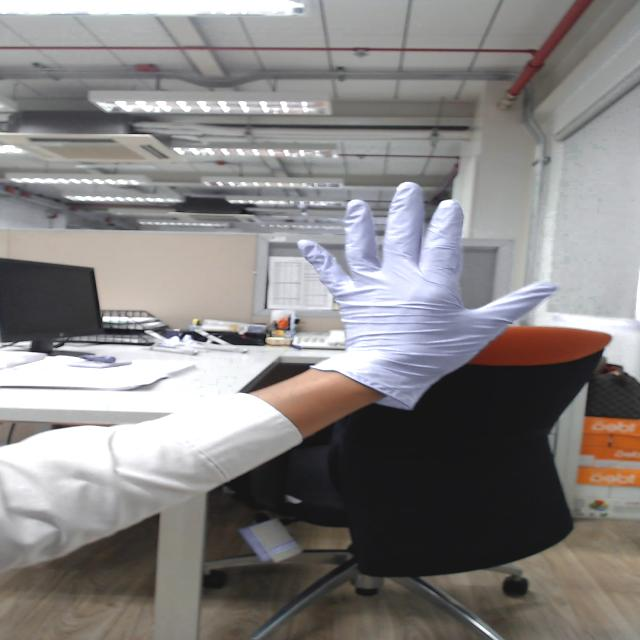glove: (292, 177, 560, 349)
